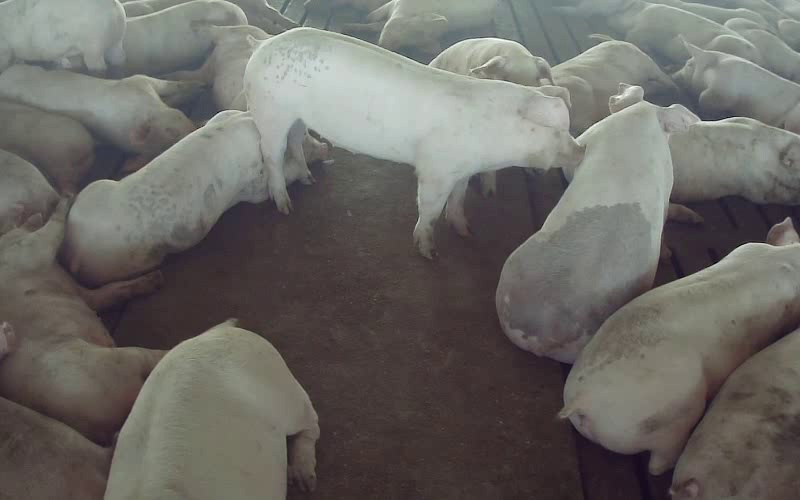pig: (246, 28, 582, 257), (496, 86, 697, 362), (0, 198, 164, 443), (105, 320, 318, 499), (671, 328, 799, 499), (551, 40, 677, 135), (674, 41, 799, 133), (670, 117, 799, 204)
